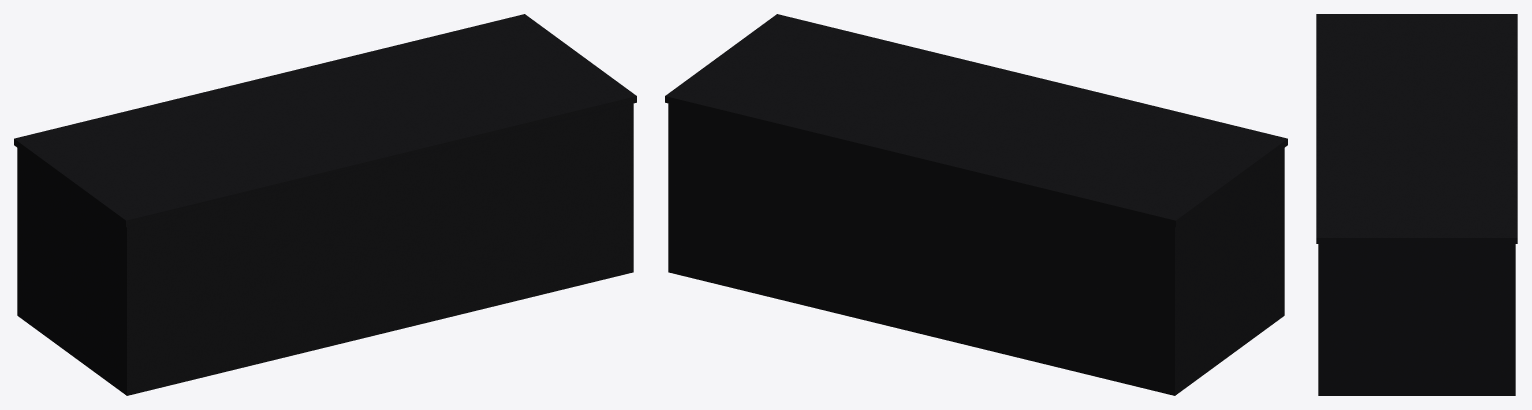
The model's file is foh_table.gltf.
3 views of the same model, side by side, from view 1: azimuth 30°, elevation 25°; view 2: azimuth 150°, elevation 25°; view 3: azimuth 270°, elevation 25° (orthographic). The views are drawn at different scales.
Parts seen in each view (by area): view 1: foh_table; view 2: foh_table; view 3: foh_table.
Boxes of the visible parts, x1,y1,x2,y2 form: foh_table: [14, 14, 636, 395]; foh_table: [665, 14, 1287, 395]; foh_table: [1316, 14, 1517, 395].
Size of the model in its own units: 2.42 by 0.8 by 0.92.
Materials: 1 (1 with a texture image).
